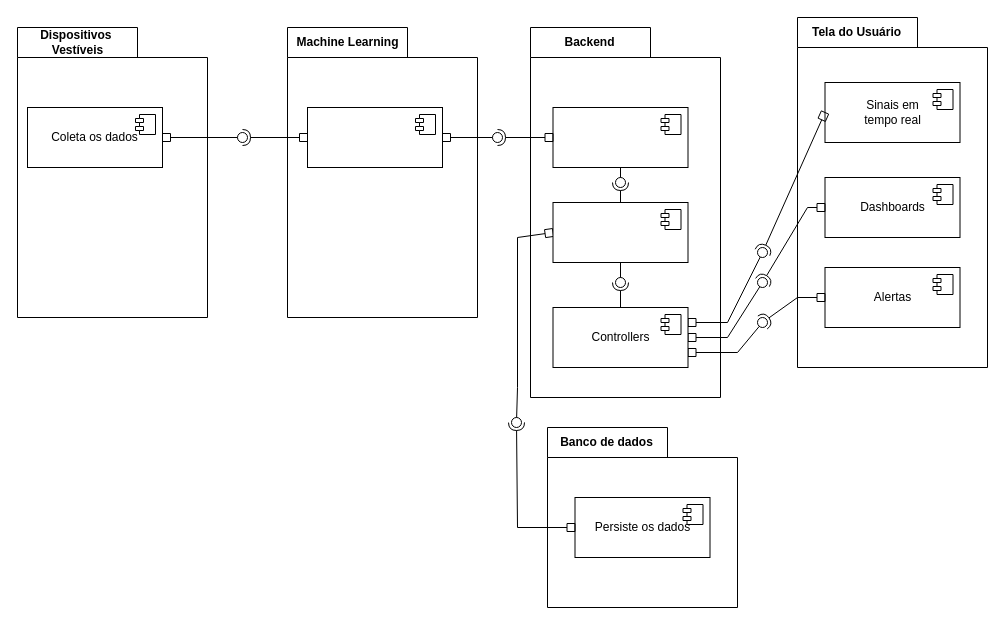
Some shapes in this 1005 by 625 pixel diagram are drawn without their labels. The shapes that lost their labels are listed below. From the top down, each one's centre as x and y in pixels, then its label:
At (x=374, y=137): "Normaliza os dados".
At (x=620, y=137): "Interpreta os dados".
At (x=620, y=232): "Services".
